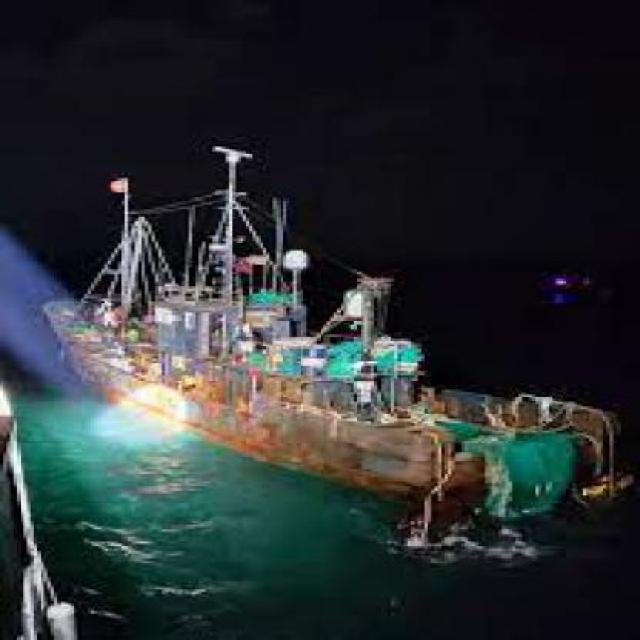fish-b: (32, 144, 638, 524)
